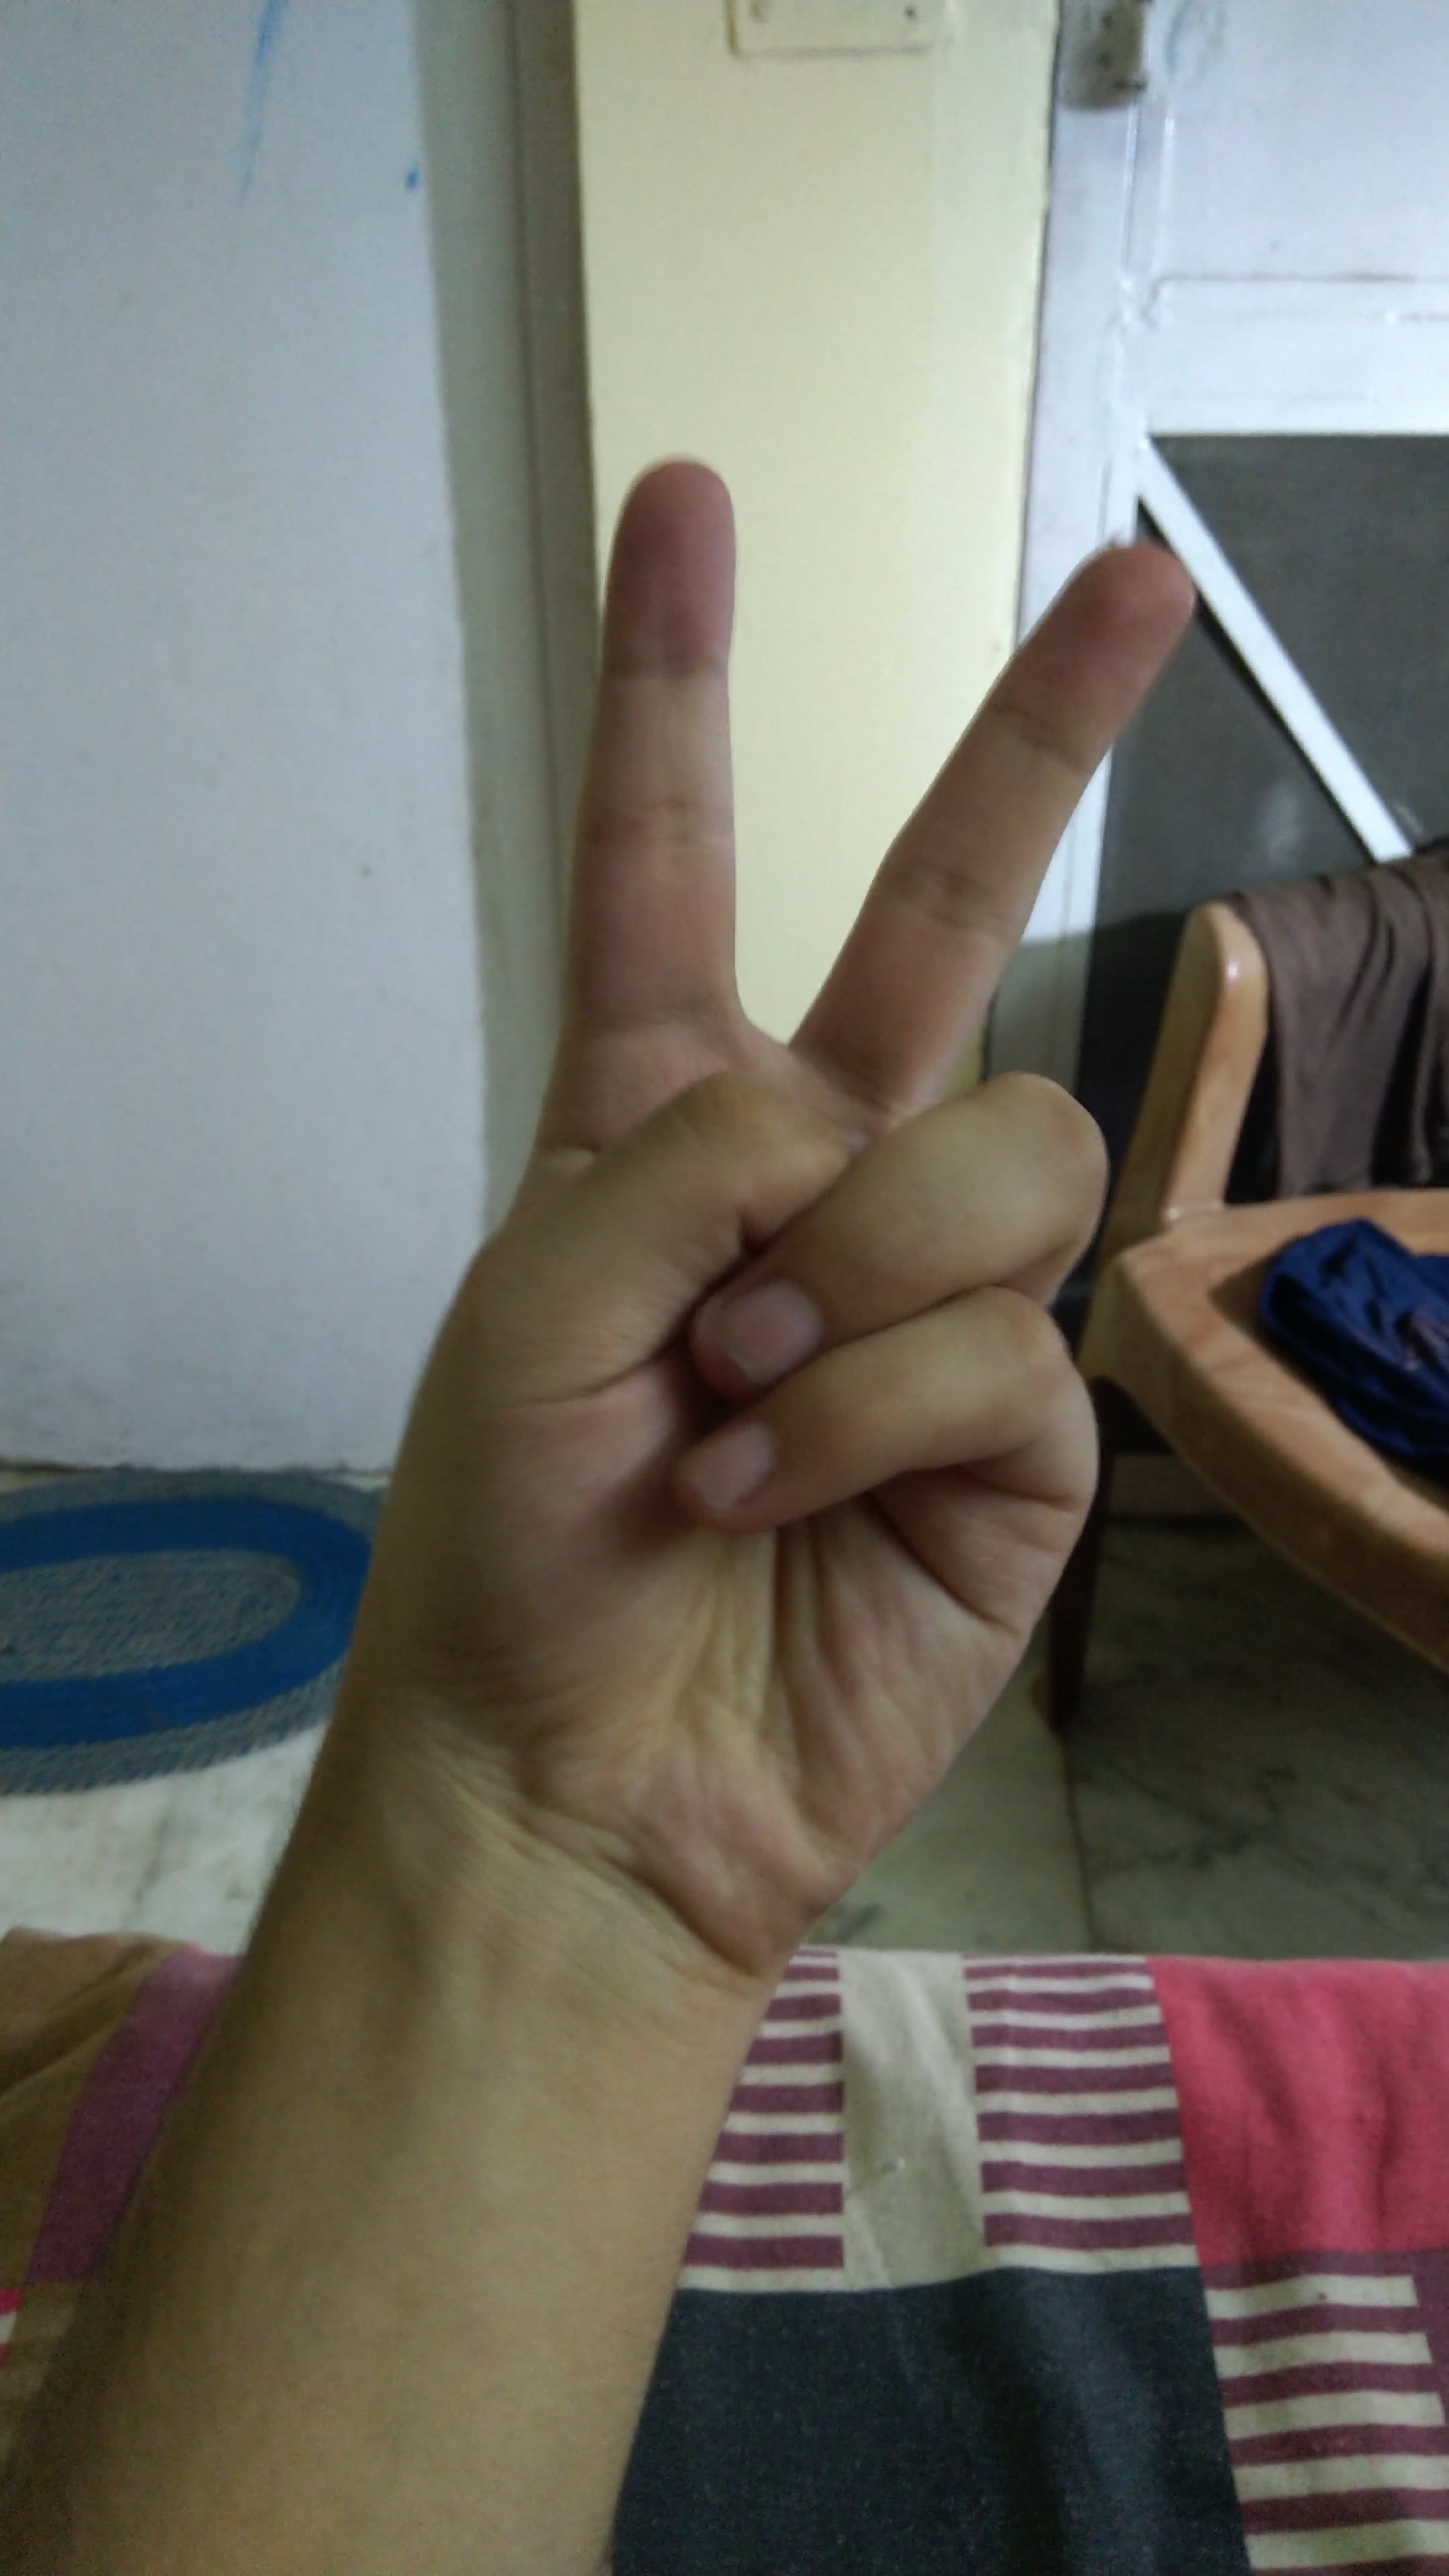hand: (303, 393, 1247, 1976)
